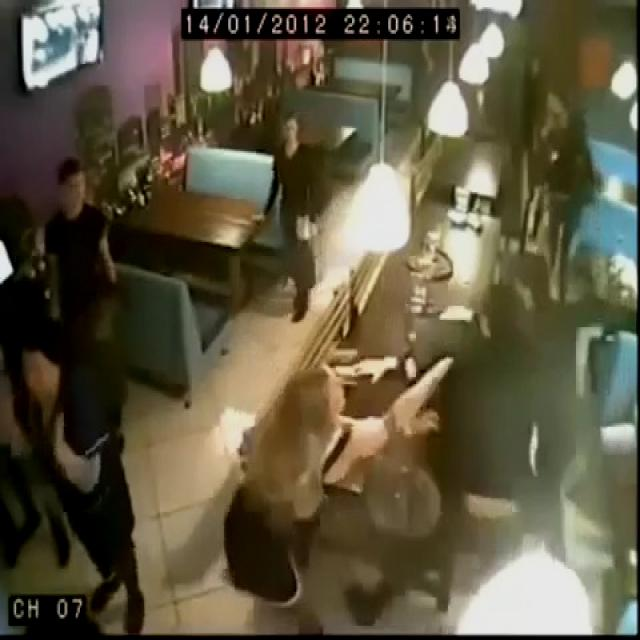fight: (412, 149, 552, 511)
